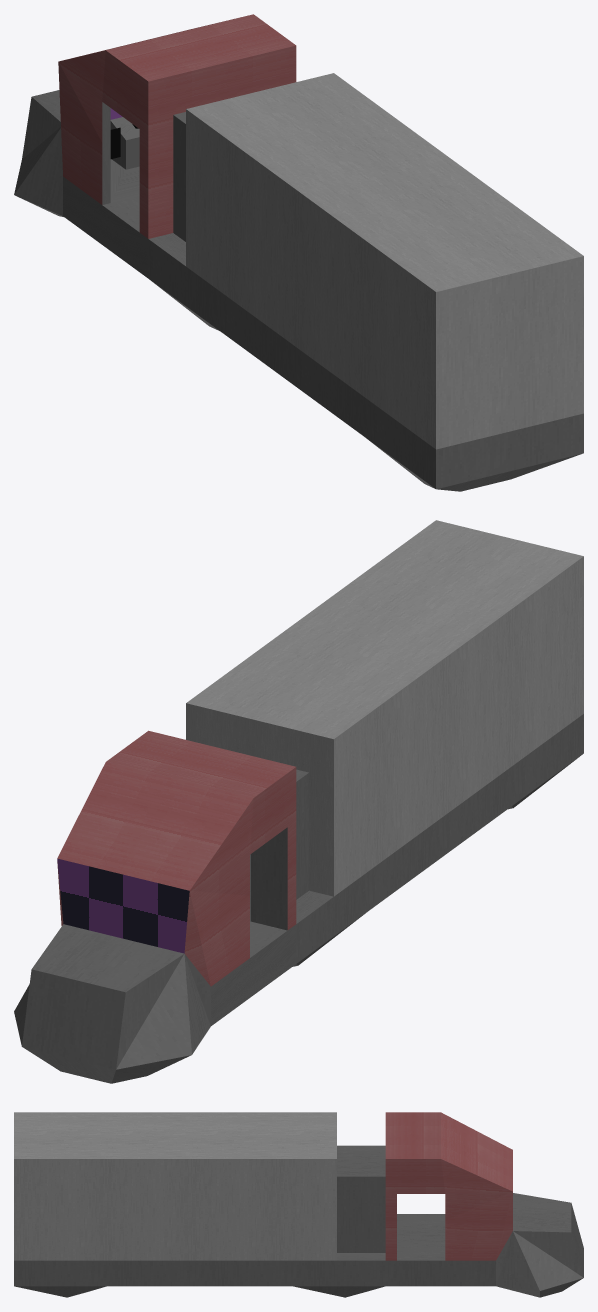
File: SpaceTruckV1.obj
3 views of the same model, one above another, from view 1: azimuth 30°, elevation 25°; view 2: azimuth 150°, elevation 25°; view 3: azimuth 270°, elevation 25° (orthographic). The views are drawn at different scales.
Visible parts, largest first — view 1: Truck; view 2: Truck; view 3: Truck.
Part boxes in pixels (x1,y1,x2,y2): Truck: (14, 14, 583, 491); Truck: (14, 520, 583, 1083); Truck: (14, 1112, 583, 1297).
Size of the model in its own units: 2.41 by 2.96 by 10.33.
6 materials, 4 textured.
